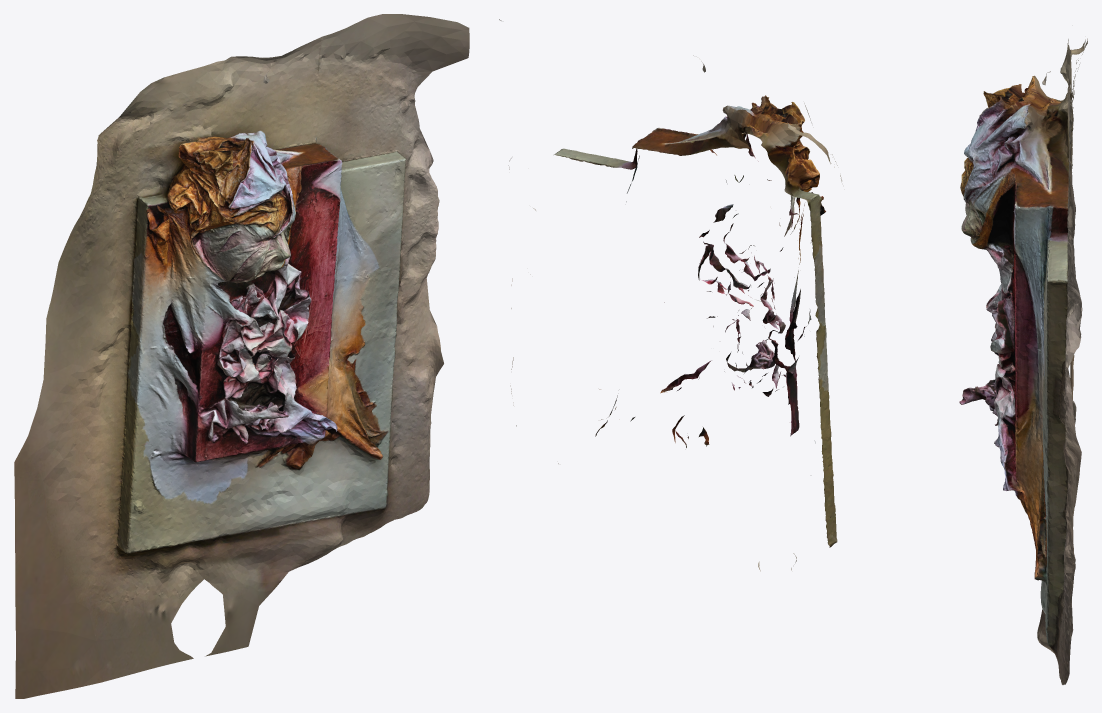
File: you-dont-have-to-say-everything-on-your-mind.glb
3 views of the same model, side by side, from view 1: azimuth 30°, elevation 25°; view 2: azimuth 150°, elevation 25°; view 3: azimuth 270°, elevation 25° (orthographic). The views are drawn at different scales.
Size of the model in its own units: 1.78 by 2.3 by 0.4092.
Materials: 1 (1 with a texture image).
